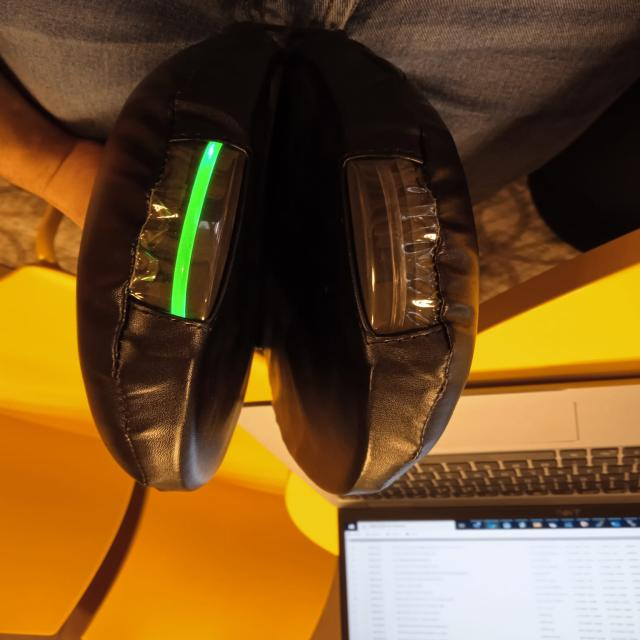trigger: (161, 138, 231, 327)
